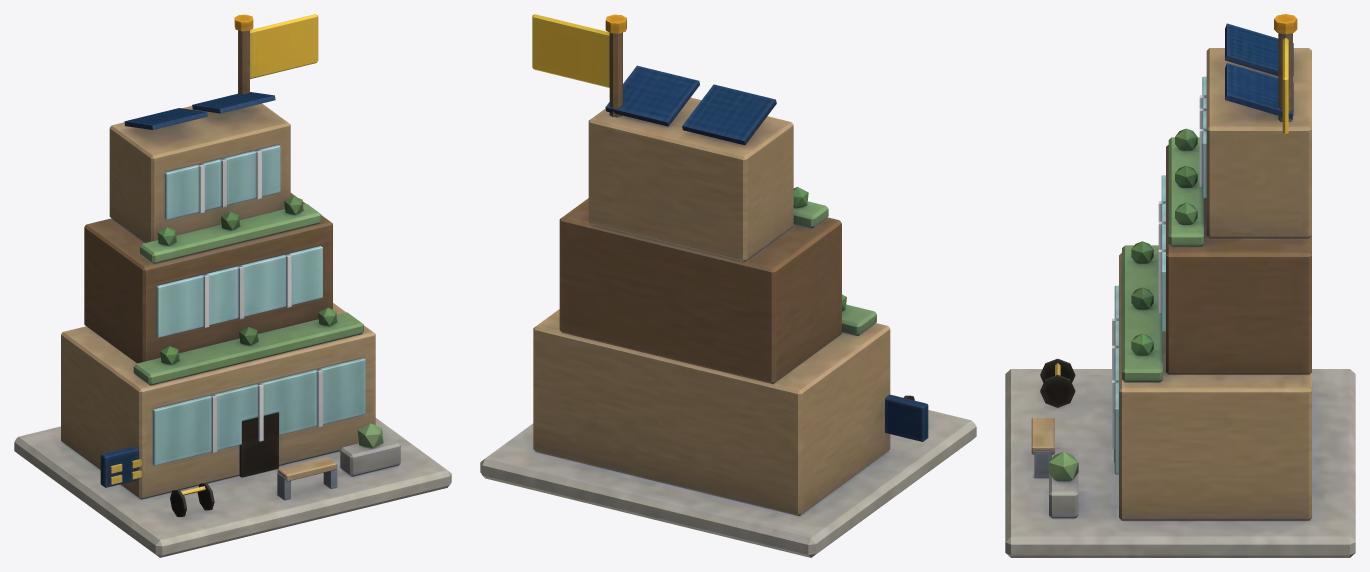
File: shelters-25.glb
3 views of the same model, side by side, from view 1: azimuth 30°, elevation 25°; view 2: azimuth 150°, elevation 25°; view 3: azimuth 270°, elevation 25° (orthographic). The views are drawn at different scales.
Parts seen in each view (by area): view 1: shelters-25; view 2: shelters-25; view 3: shelters-25.
Part boxes in pixels (left/top/right/bottom): shelters-25: left=14, top=14, right=451, bottom=557; shelters-25: left=480, top=14, right=976, bottom=557; shelters-25: left=1005, top=14, right=1355, bottom=557.
Size of the model in its own units: 1.42 by 1.84 by 1.2.
Materials: 1 (1 with a texture image).
